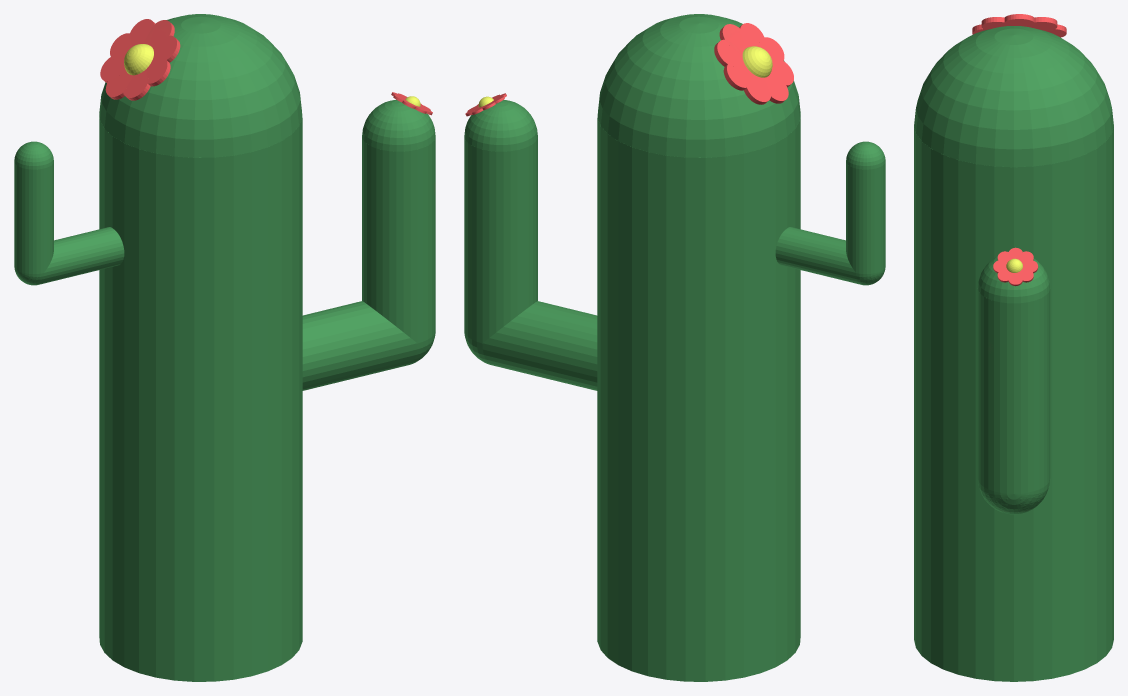
File: cactus.fbx
3 views of the same model, side by side, from view 1: azimuth 30°, elevation 25°; view 2: azimuth 150°, elevation 25°; view 3: azimuth 270°, elevation 25° (orthographic).
Visible parts, largest first — view 1: Cylinder.006; view 2: Cylinder.006; view 3: Cylinder.006.
Part boxes in pixels (x1,y1,x2,y2): Cylinder.006: (14,14,435,681); Cylinder.006: (464,14,885,681); Cylinder.006: (914,14,1113,681).
Size of the model in its own units: 4.69 by 6.75 by 2.
Materials: 1 (1 with a texture image).
